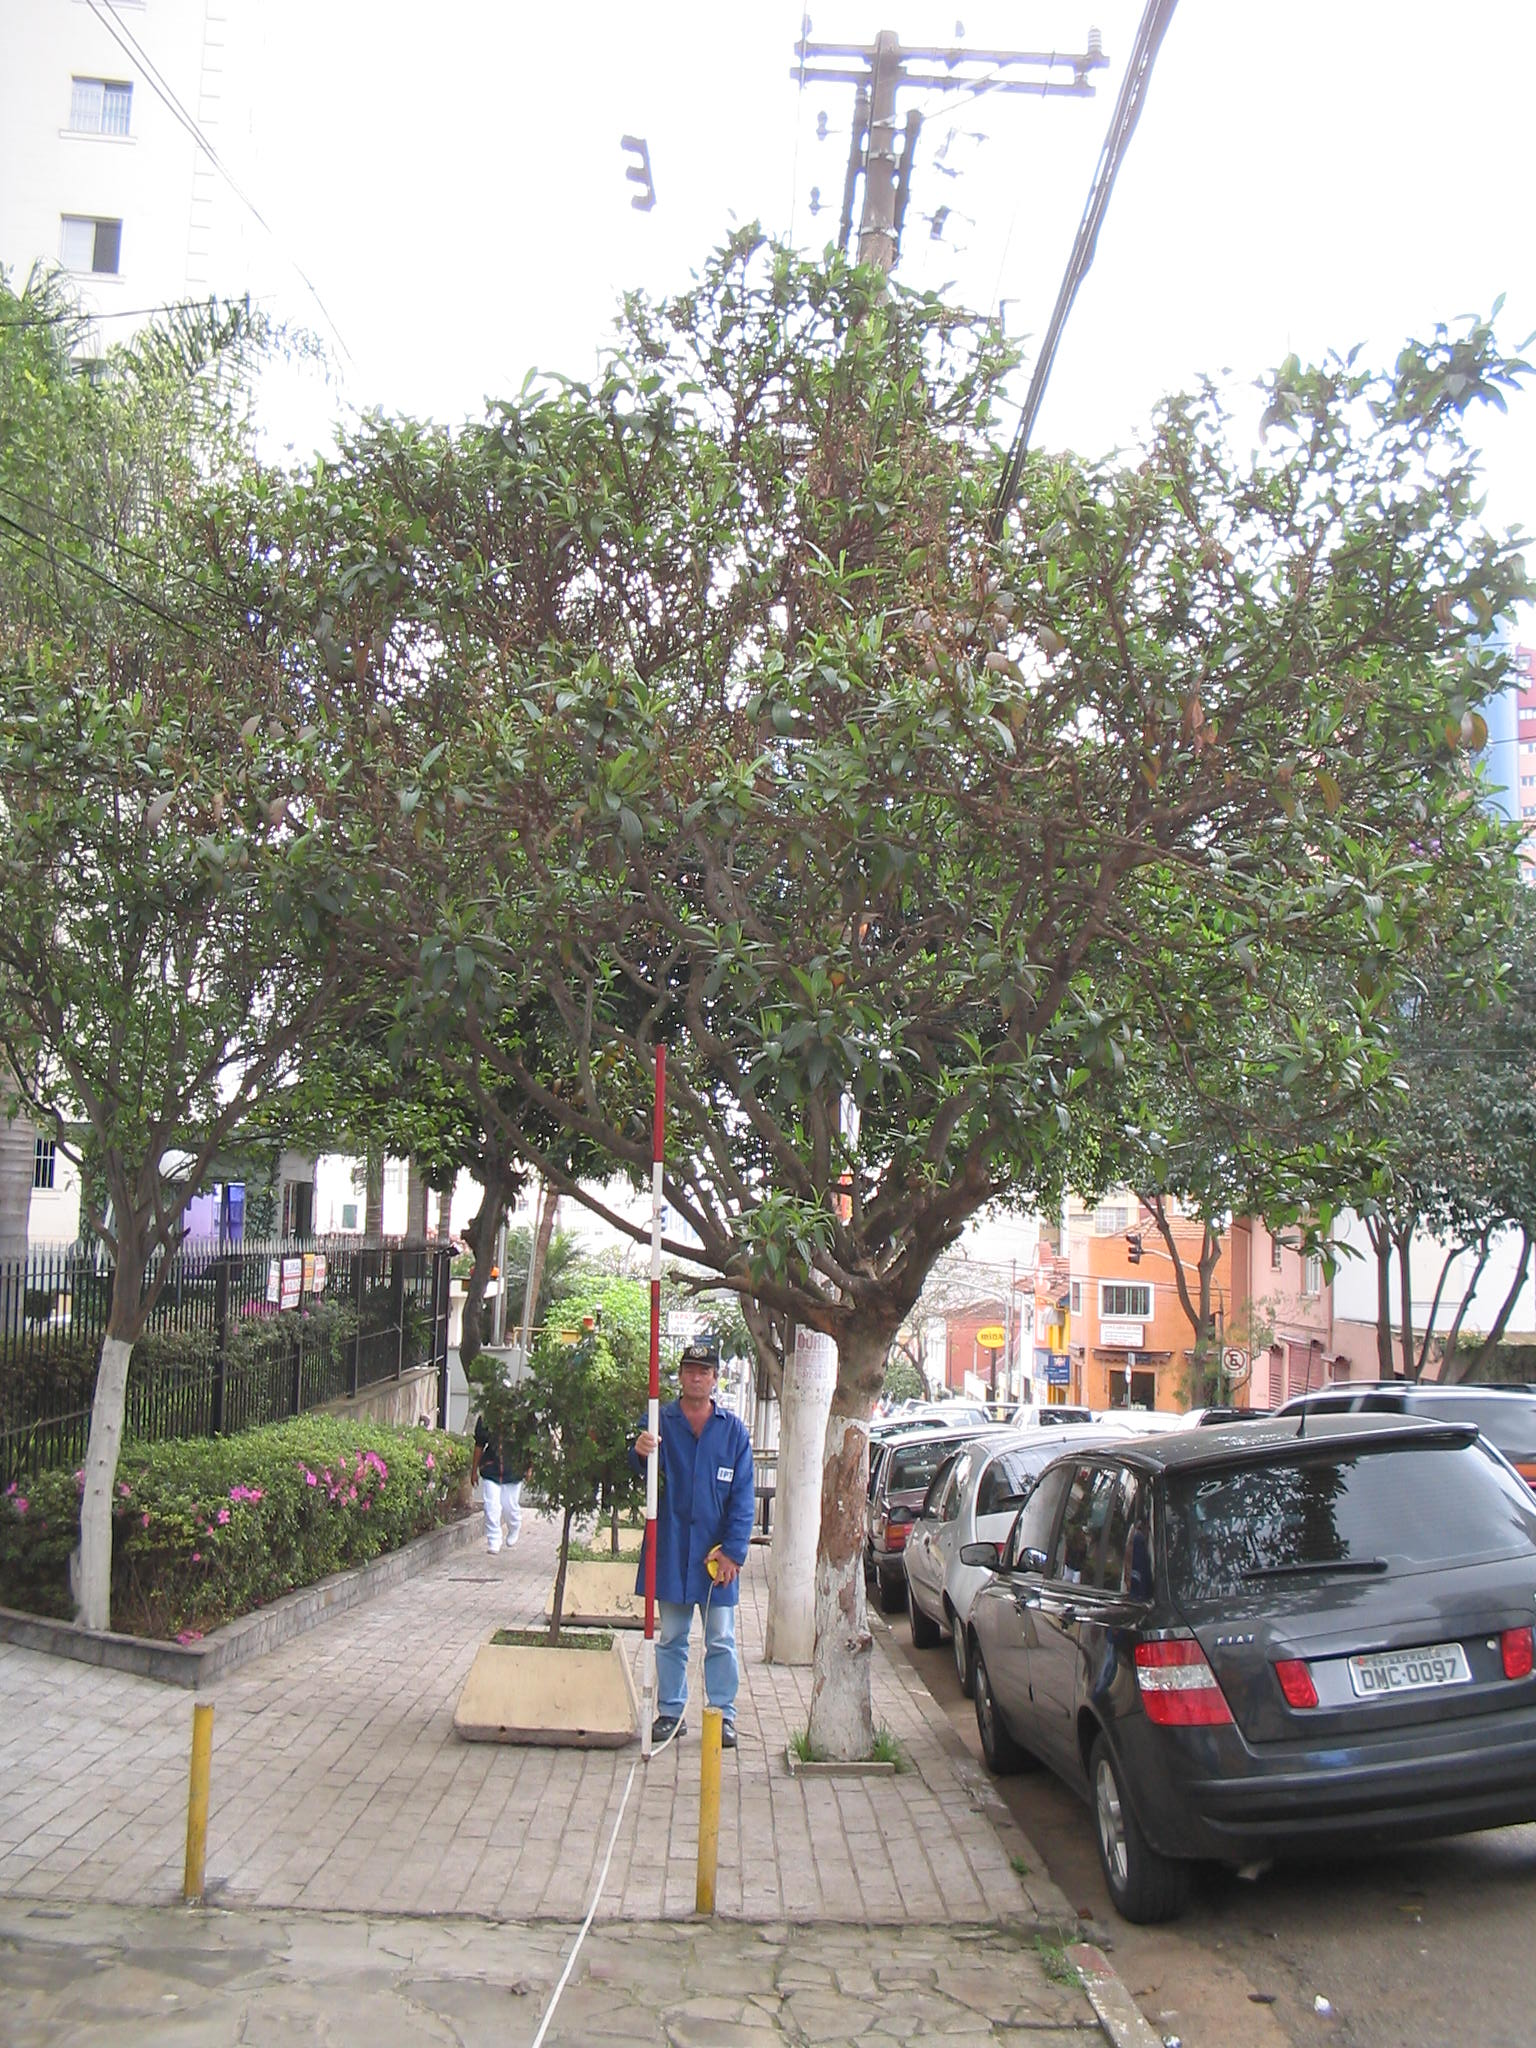crown: (189, 226, 1533, 1332)
stem: (786, 1332, 939, 1755), (52, 1261, 165, 1629)
stick: (613, 1042, 689, 1758)
tree: (181, 221, 1536, 1763), (2, 253, 319, 1629)
